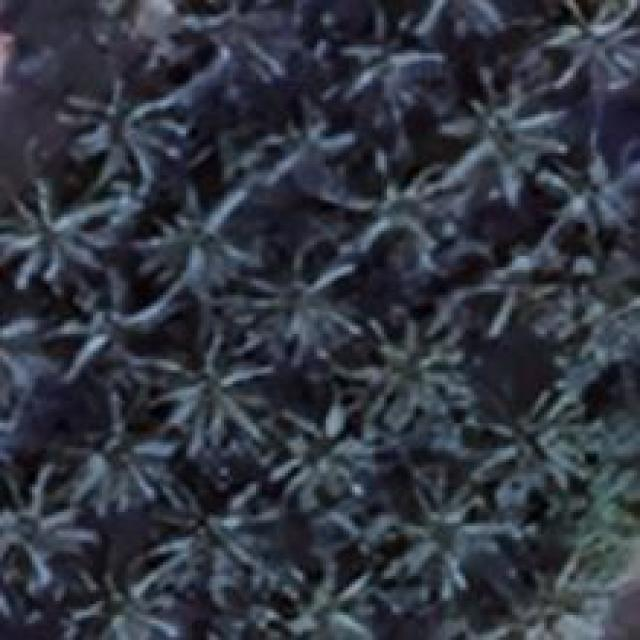PalmTree: (65, 127, 448, 564), (90, 89, 320, 456), (441, 66, 566, 204), (146, 481, 280, 604), (0, 169, 119, 289), (160, 335, 276, 455), (340, 0, 445, 128), (354, 317, 472, 429), (474, 392, 596, 498), (386, 474, 488, 597), (547, 230, 640, 360), (130, 194, 244, 300), (64, 89, 189, 178), (69, 417, 171, 518), (474, 562, 611, 637), (61, 276, 160, 378), (344, 156, 446, 254), (0, 465, 89, 574), (245, 273, 350, 364), (245, 269, 345, 363), (70, 417, 171, 510), (0, 474, 86, 580), (275, 407, 367, 501), (541, 0, 637, 89), (547, 150, 640, 234), (0, 292, 68, 399), (285, 562, 378, 637), (76, 579, 177, 637), (76, 581, 160, 640)
